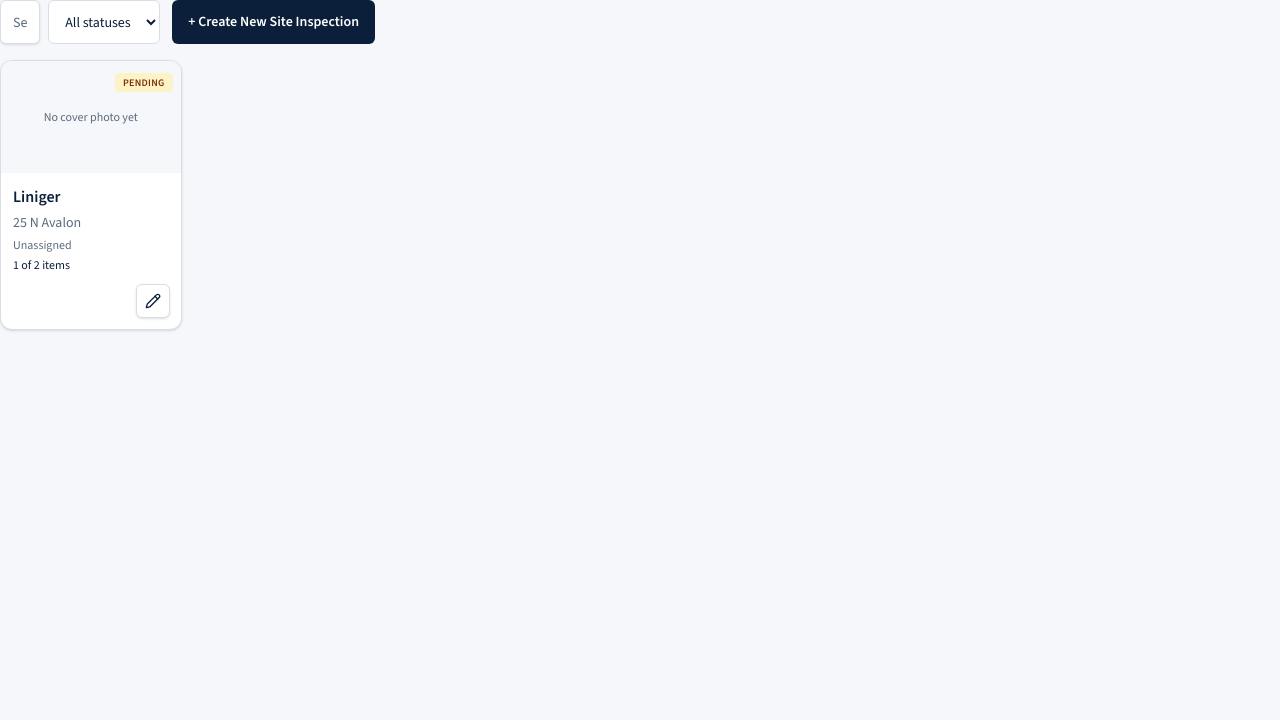
Test: edit inspection details › asks before discarding unsaved edits and shows a server rejection
Click the button named "Edit inspection Liniger": click(152, 301) top-left (136, 284), bottom-right (170, 318)
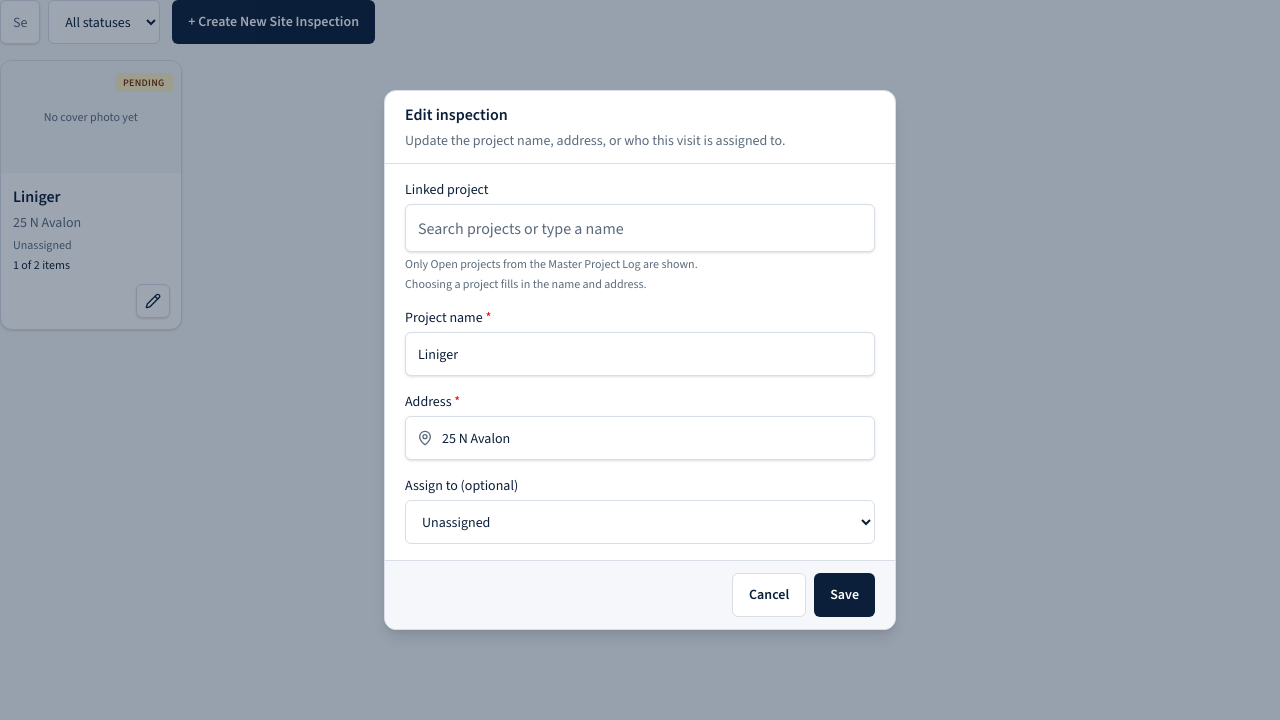
Replace the text in the field labelled "Project name *" with "Nope": (640, 354) top-left (405, 332), bottom-right (875, 376)
Press Escape
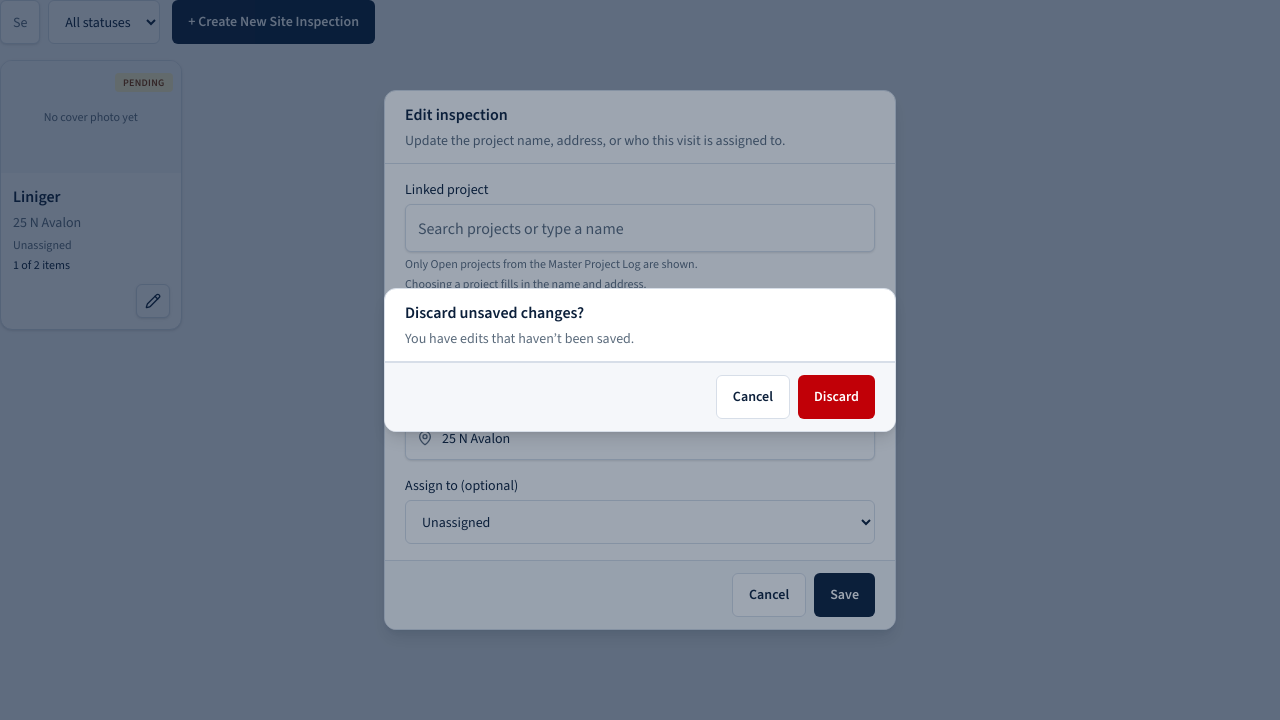
Result: the dialog "Discard unsaved changes?" is shown at top-left (384, 288), bottom-right (896, 432)
Click the button "Discard": click(836, 397) top-left (798, 375), bottom-right (875, 419)
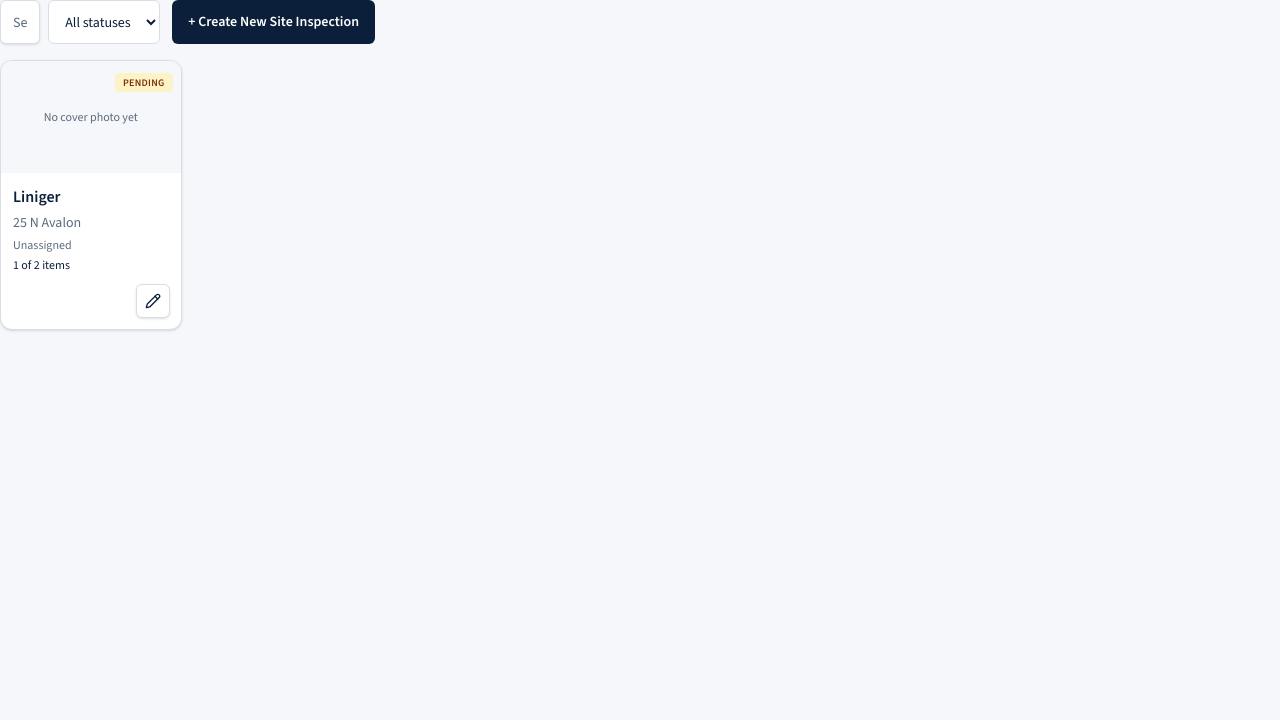
Expected: the text "Liniger" is shown, top-left (13, 186), bottom-right (60, 207)
Result: the dialog is gone
Click the button named "Edit inspection Liniger": click(152, 301) top-left (136, 284), bottom-right (170, 318)
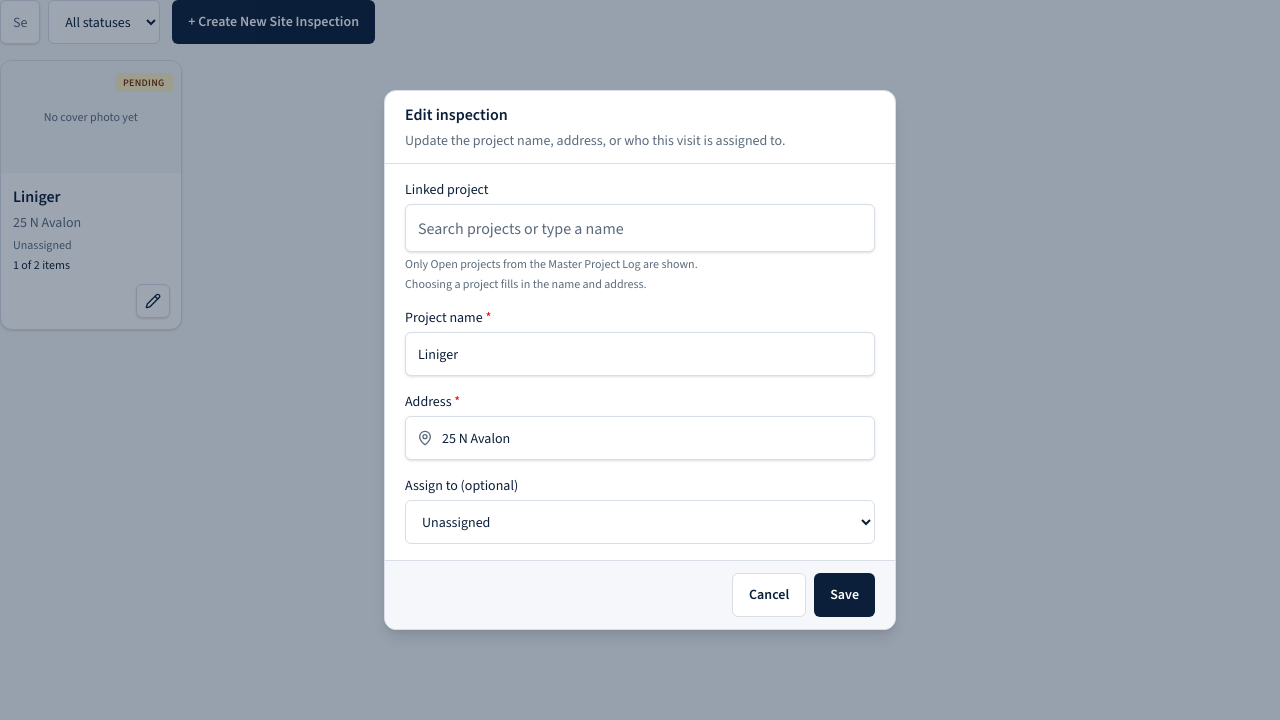
Replace the text in the field labelled "Project name *" with "Nope": (640, 354) top-left (405, 332), bottom-right (875, 376)
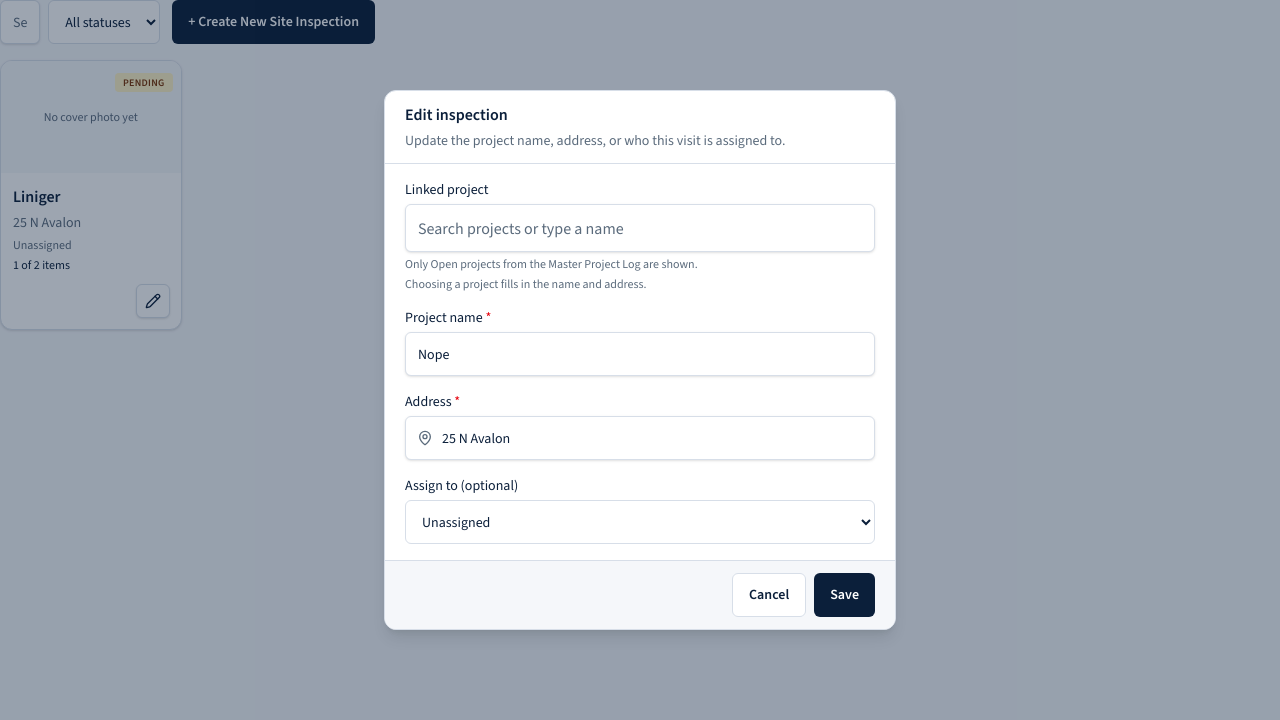
Click the button "Save": click(845, 595) top-left (814, 573), bottom-right (875, 617)
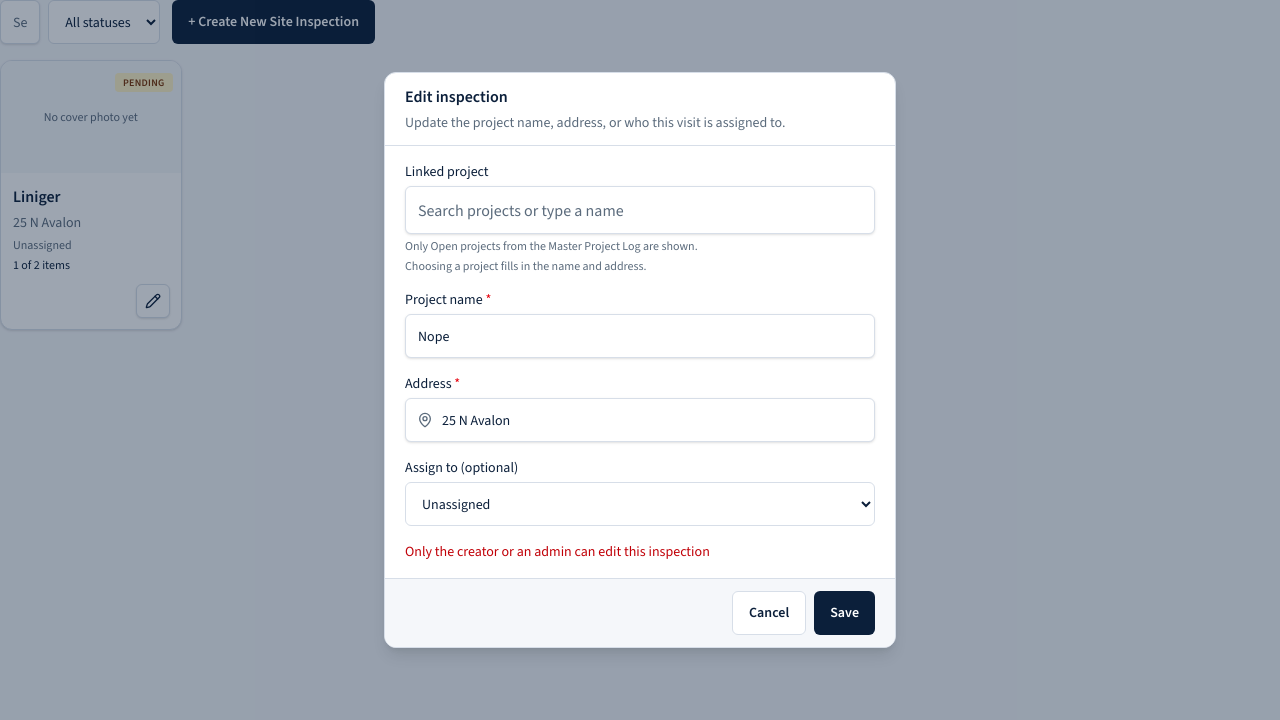
Expected: the text "Liniger" is shown, top-left (13, 186), bottom-right (60, 207)
Result: the message shows "creator or an admin" at top-left (405, 542), bottom-right (710, 561)
